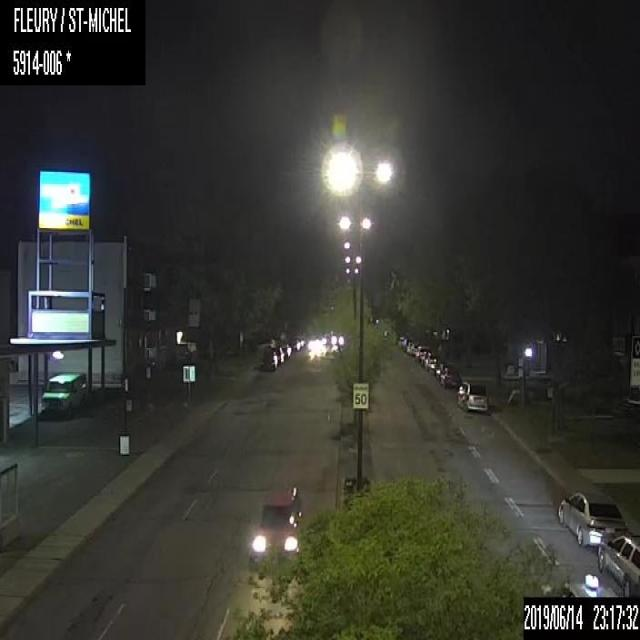vehicle: (557, 486, 627, 547), (249, 489, 306, 562), (597, 534, 639, 594), (39, 370, 86, 421), (455, 381, 486, 411), (439, 364, 461, 388), (307, 338, 328, 358), (258, 349, 277, 369), (329, 332, 345, 347), (271, 345, 284, 363)
